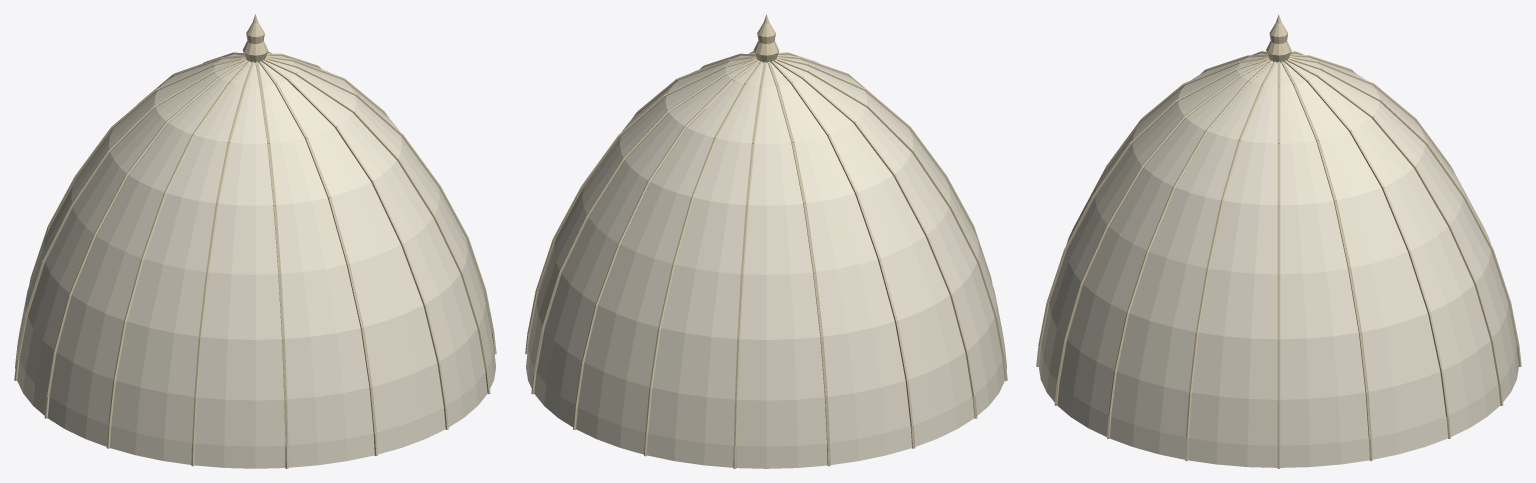
Rendered from KOL_T1_GPO__06_Dome.fbx.
3 views of the same model, side by side, from view 1: azimuth 30°, elevation 25°; view 2: azimuth 150°, elevation 25°; view 3: azimuth 270°, elevation 25° (orthographic).
Visible parts, largest first — view 1: KOL_T1_GPO__06_Dome__KOL_T1_HeritageWhite, KOL_T1_GPO__06_Dome__KOL_T1_HeritageCream; view 2: KOL_T1_GPO__06_Dome__KOL_T1_HeritageWhite, KOL_T1_GPO__06_Dome__KOL_T1_HeritageCream; view 3: KOL_T1_GPO__06_Dome__KOL_T1_HeritageWhite, KOL_T1_GPO__06_Dome__KOL_T1_HeritageCream.
Part boxes in pixels (x1,y1,x2,y2): KOL_T1_GPO__06_Dome__KOL_T1_HeritageWhite: (15,52,495,468); KOL_T1_GPO__06_Dome__KOL_T1_HeritageCream: (14,14,496,468); KOL_T1_GPO__06_Dome__KOL_T1_HeritageWhite: (526,52,1006,468); KOL_T1_GPO__06_Dome__KOL_T1_HeritageCream: (525,14,1007,468); KOL_T1_GPO__06_Dome__KOL_T1_HeritageWhite: (1038,53,1518,467); KOL_T1_GPO__06_Dome__KOL_T1_HeritageCream: (1036,14,1521,468).
Size of the model in its own units: 41.46 by 33.21 by 41.45.
